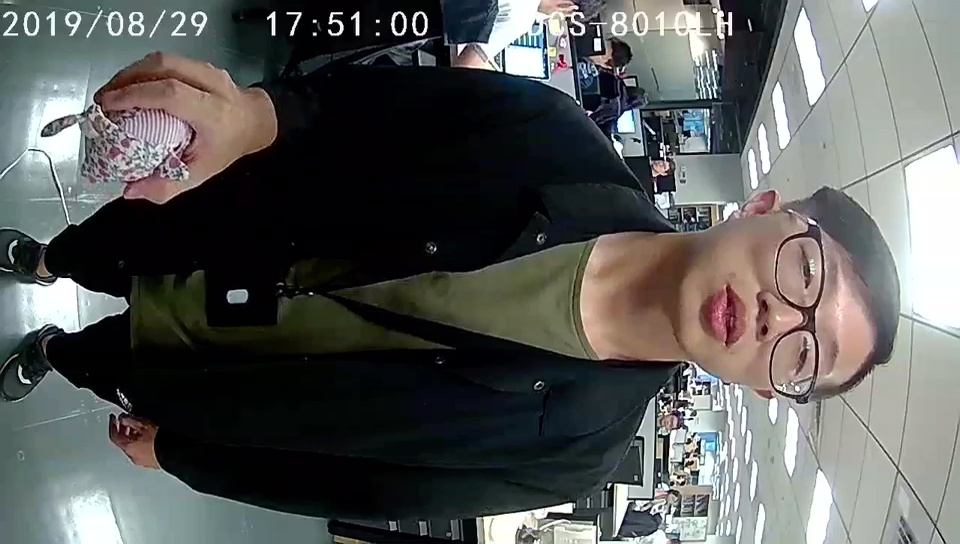pig: (75, 103, 197, 190)
